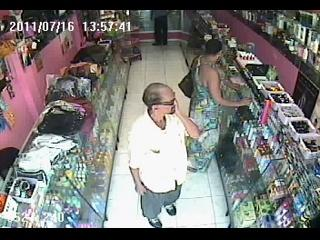Normal: (128, 83, 203, 228), (186, 38, 252, 174), (150, 10, 169, 46)
